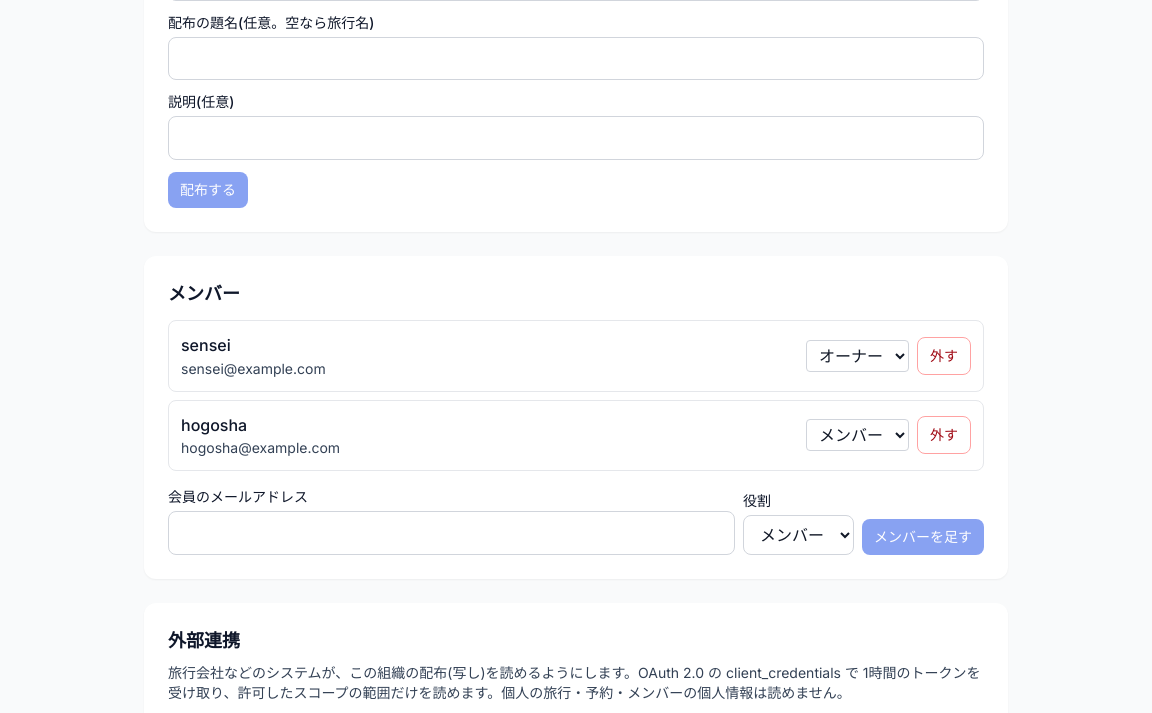
Scenario: 組織の画面 (Gate B1) › 最後のオーナーを変えようとした理由を表示する
(page scrolled)
Select "メンバー" in the dropdown named "sensei の役割" in the row of "sensei@example.com" at (858, 356), box [806, 340, 909, 372]
(page scrolled)
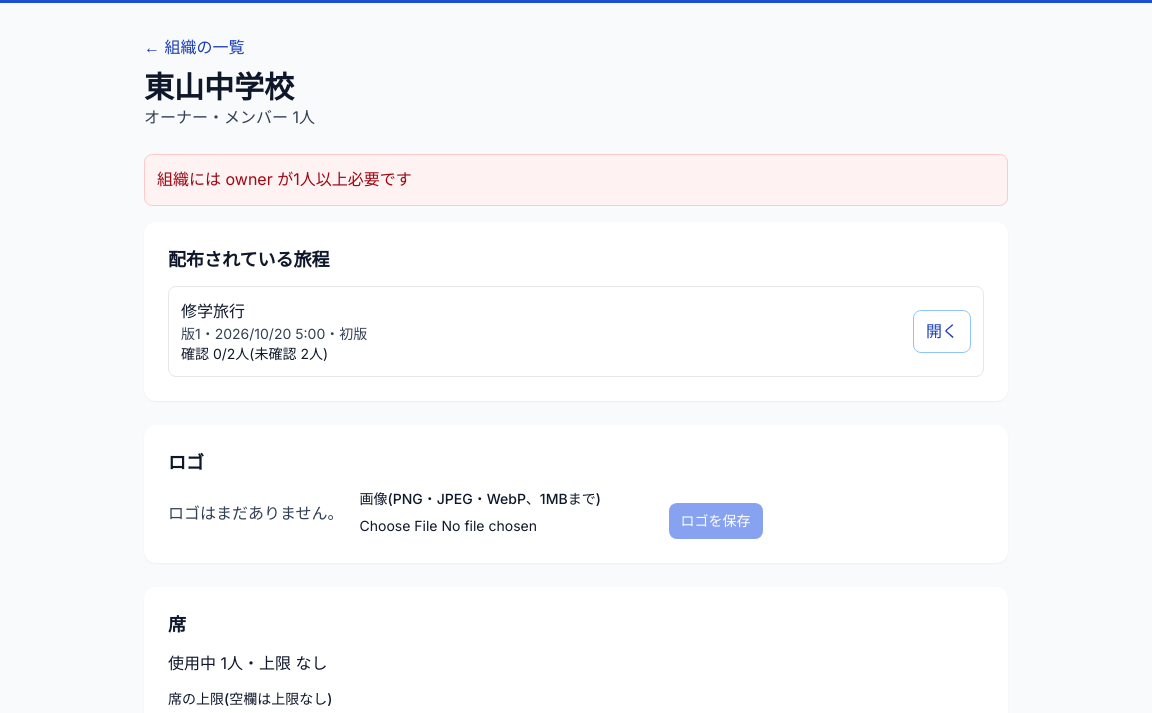
Expected: the message reads "組織には owner が1人以上必要です", [157, 169, 412, 189]
